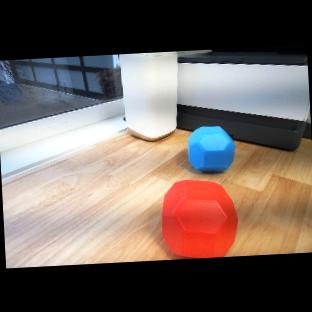V5_BLUE: (187, 124, 237, 174)
V5_RED: (158, 176, 240, 260)
